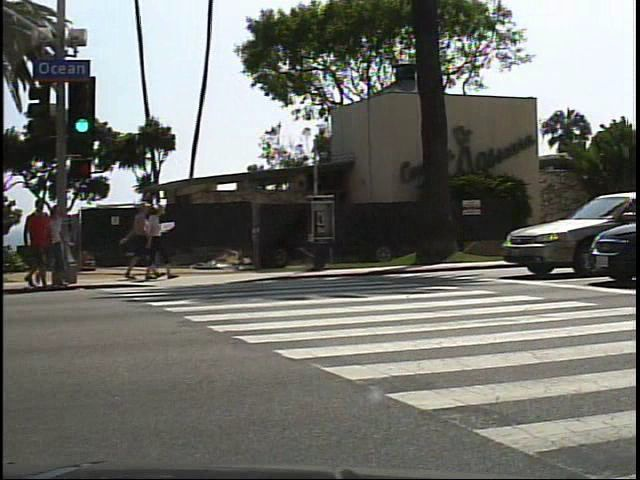person: (23, 192, 54, 300), (47, 201, 66, 286)
